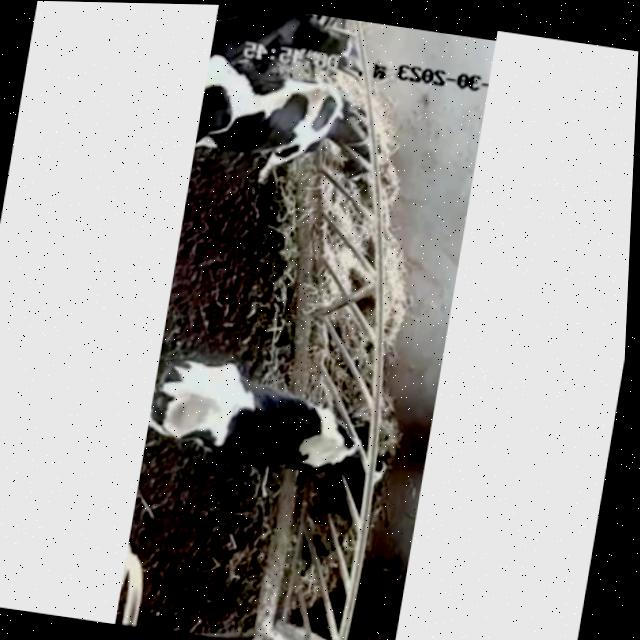eat: (259, 59, 448, 195), (263, 383, 424, 509)
